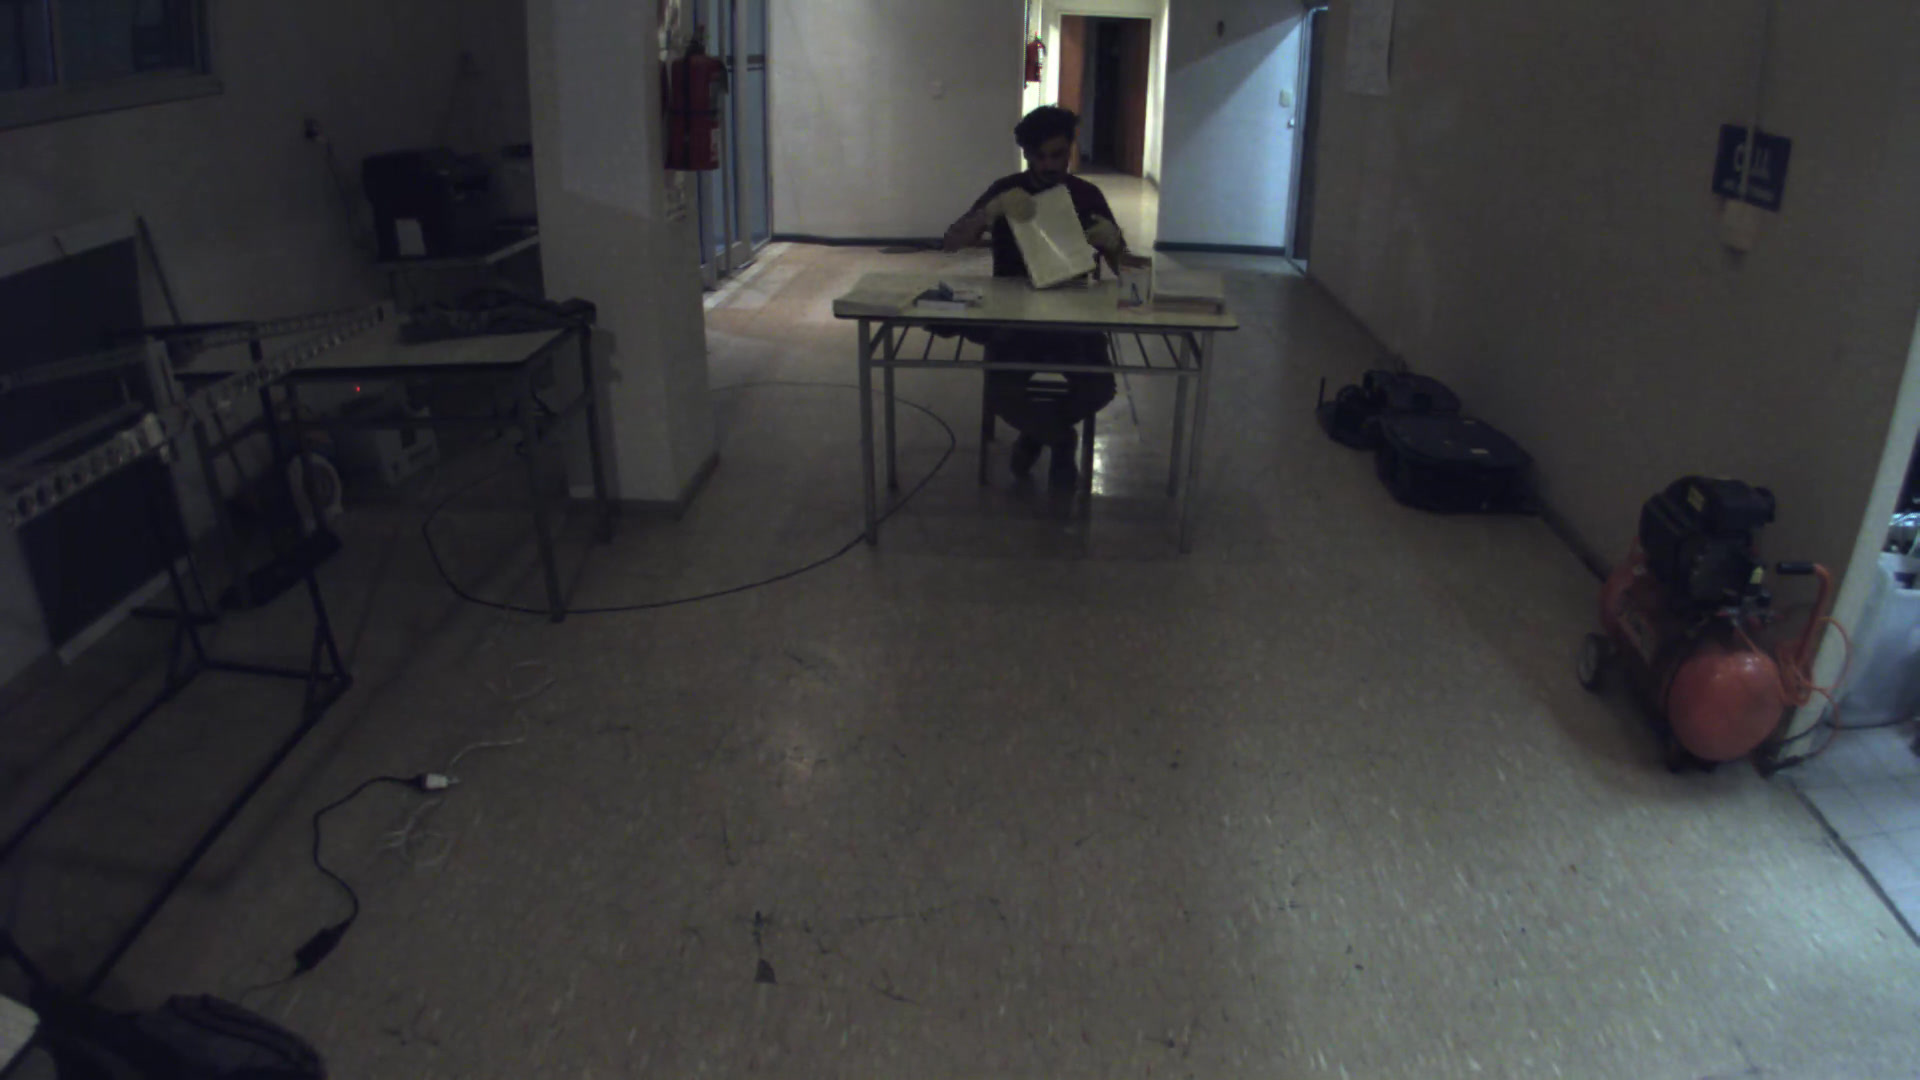hand: (1073, 202, 1131, 258), (982, 182, 1035, 225)
